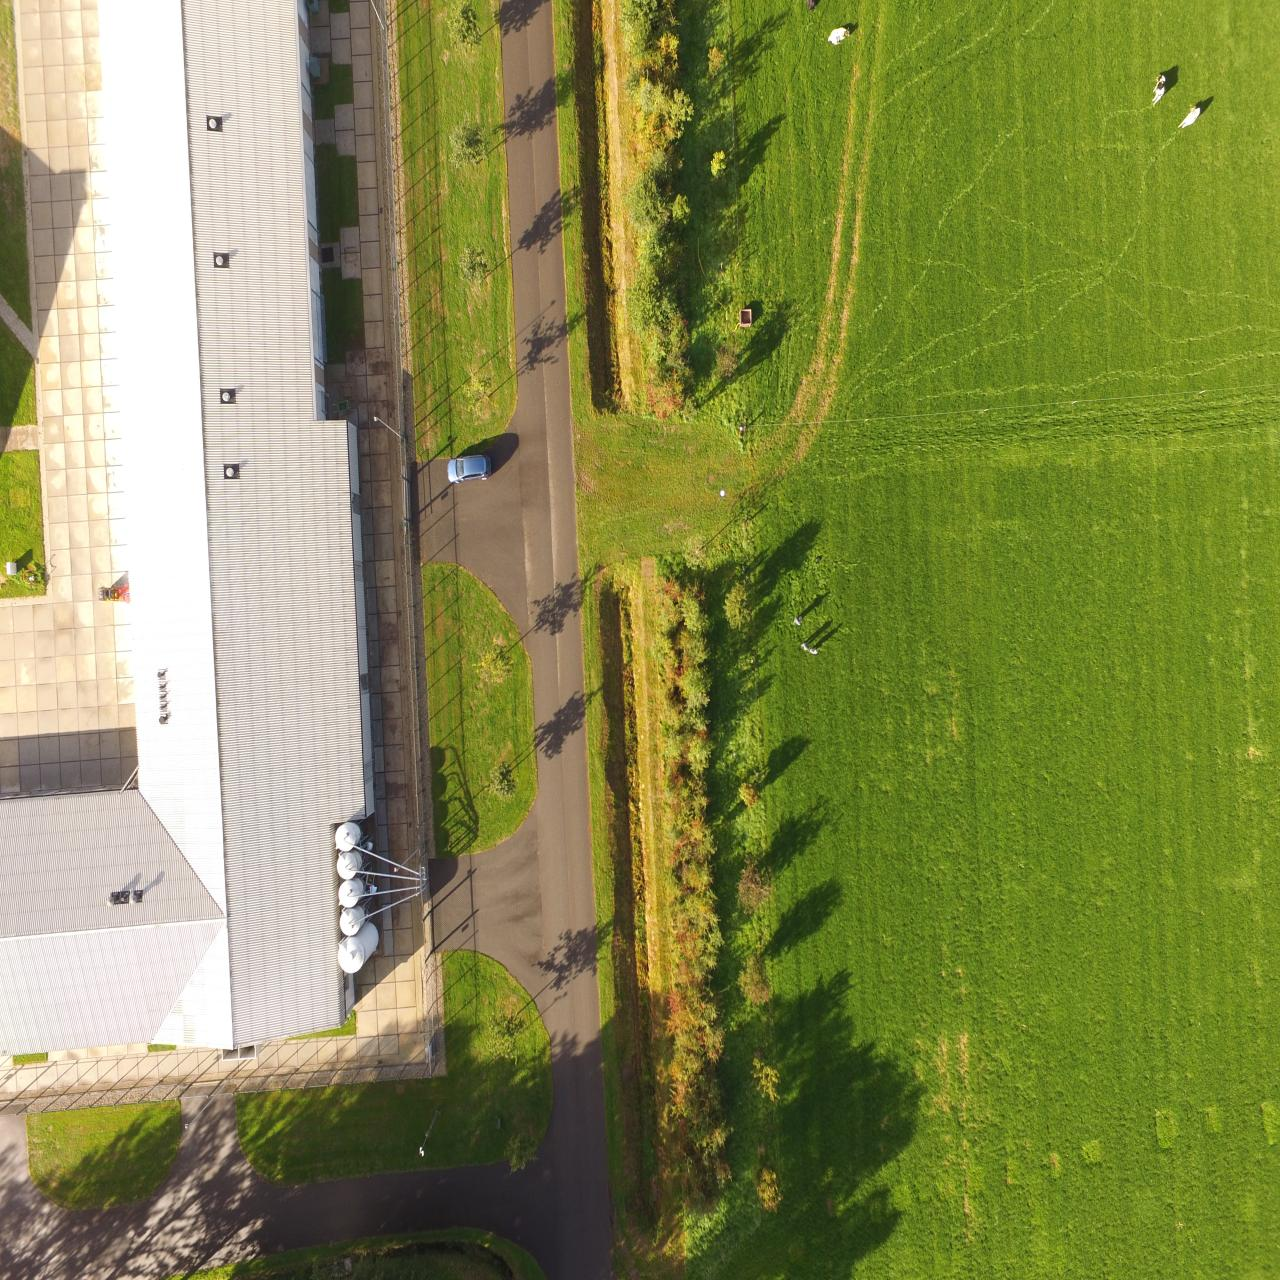cow: (1177, 98, 1200, 134), (1152, 73, 1166, 108), (826, 26, 850, 46)
